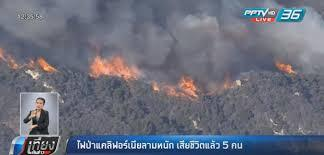fire: (81, 48, 210, 111), (6, 37, 69, 82), (257, 46, 301, 84)
